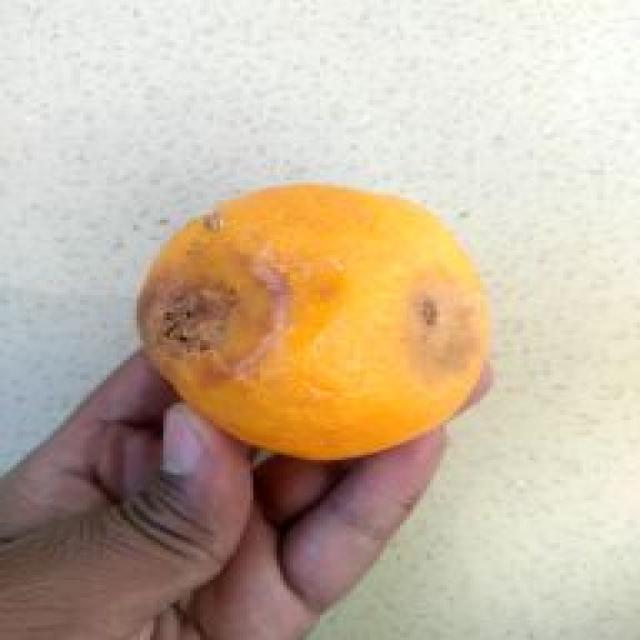Bad_Orange: (138, 184, 488, 459)
